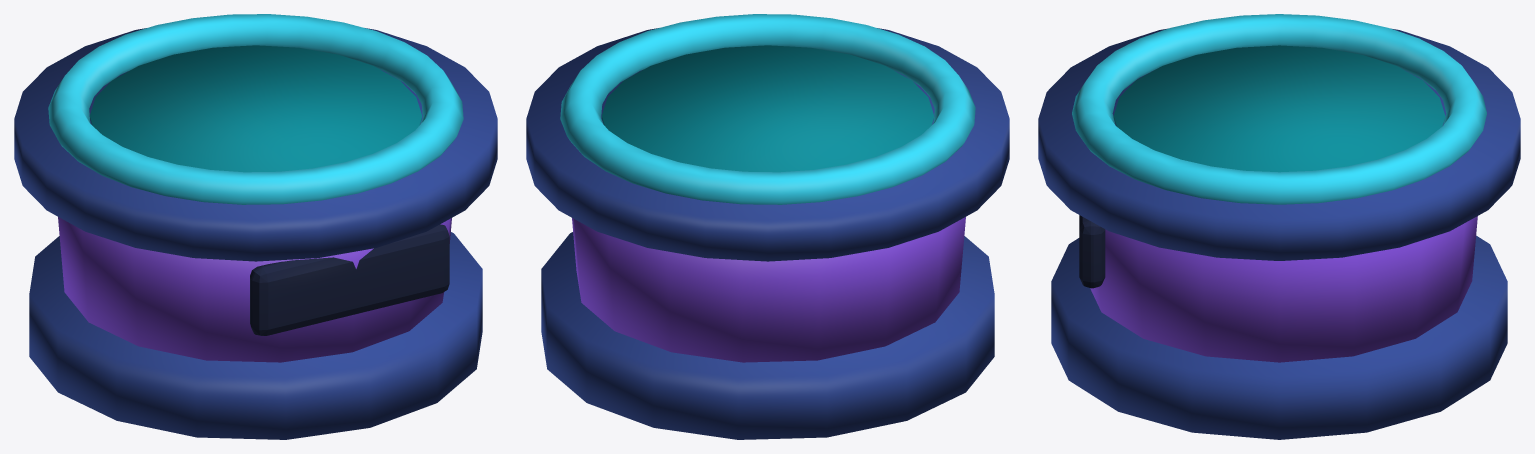
The model's file is DisplayPedestal.fbx.
3 renders of one model, left to right at view 1: azimuth 30°, elevation 25°; view 2: azimuth 150°, elevation 25°; view 3: azimuth 270°, elevation 25°, orthographic.
Parts seen in each view (by area): view 1: DisplayPedestal; view 2: DisplayPedestal; view 3: DisplayPedestal.
Boxes of the visible parts, left/top/right/bottom form: DisplayPedestal: left=14, top=14, right=497, bottom=439; DisplayPedestal: left=526, top=14, right=1009, bottom=439; DisplayPedestal: left=1038, top=14, right=1520, bottom=439.
Size of the model in its own units: 2.24 by 1.26 by 2.24.
1 material, 1 textured.
